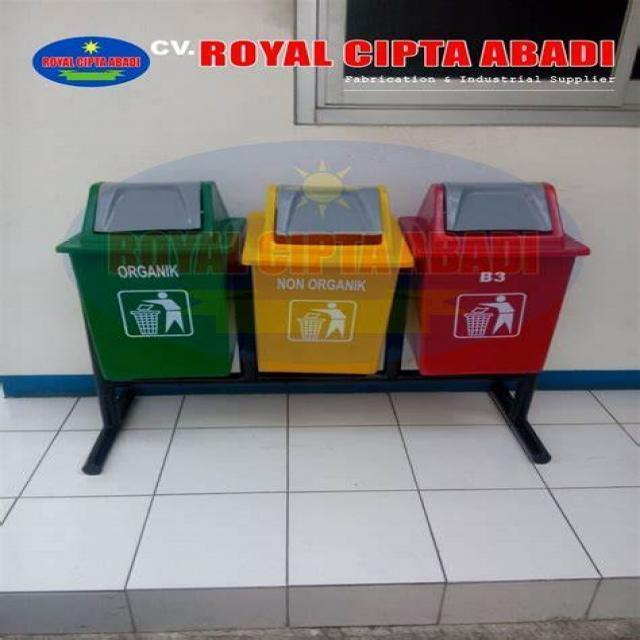garbage container: (37, 158, 255, 426), (415, 166, 590, 408), (248, 176, 414, 426)
